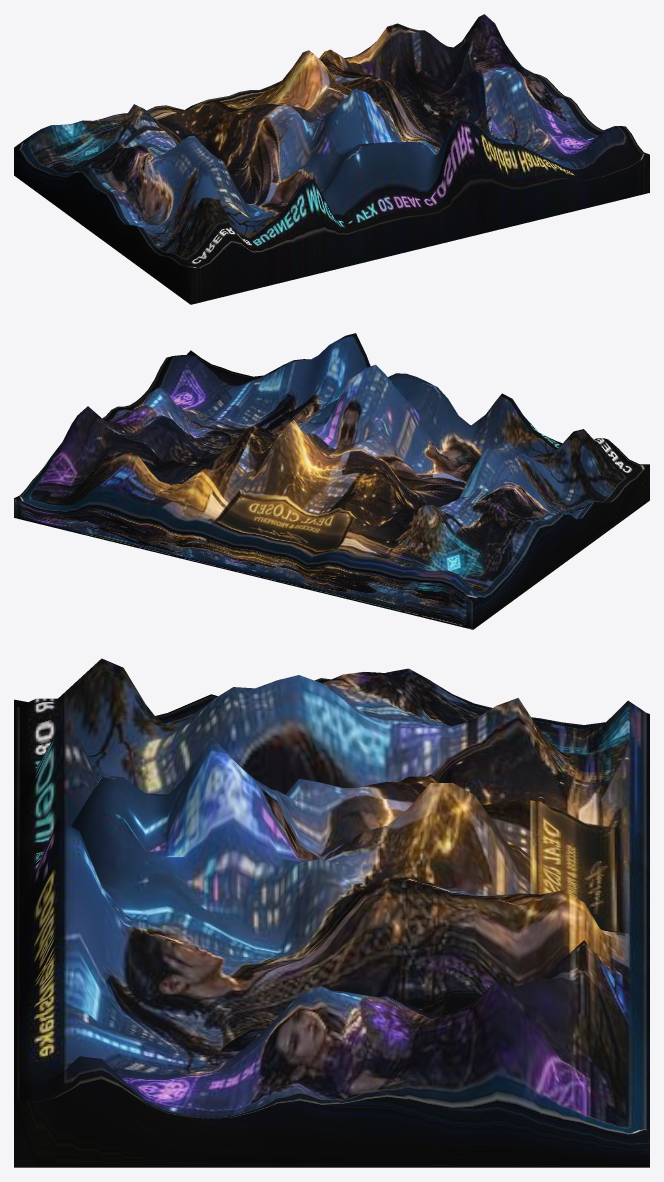
The model's file is CAREER_08_VFX_02_Deal.glb.
The picture shows the model from 3 angles, top to bottom: view 1: azimuth 30°, elevation 25°; view 2: azimuth 150°, elevation 25°; view 3: azimuth 270°, elevation 25°; orthographic projection. The views are drawn at different scales.
Visible parts, largest first — view 1: CAREER_08_VFX_02_Deal; view 2: CAREER_08_VFX_02_Deal; view 3: CAREER_08_VFX_02_Deal.
Boxes of the visible parts, left/top/right/bottom form: CAREER_08_VFX_02_Deal: left=14, top=14, right=649, bottom=304; CAREER_08_VFX_02_Deal: left=14, top=333, right=649, bottom=629; CAREER_08_VFX_02_Deal: left=14, top=658, right=649, bottom=1167.
Size of the model in its own units: 2 by 0.51 by 1.33.
1 material, 1 textured.
